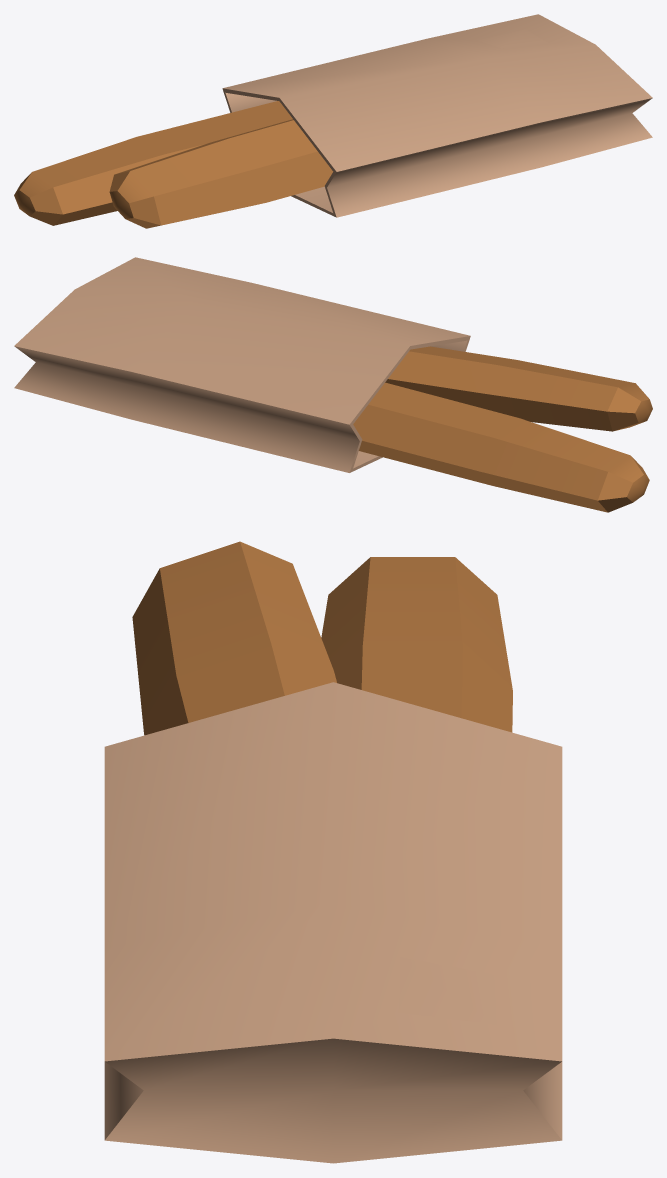
File: Baguette_Bag.fbx
3 views of the same model, one above another, from view 1: azimuth 30°, elevation 25°; view 2: azimuth 150°, elevation 25°; view 3: azimuth 270°, elevation 25° (orthographic). The views are drawn at different scales.
Parts seen in each view (by area): view 1: Baguette_Bag; view 2: Baguette_Bag; view 3: Baguette_Bag.
Part boxes in pixels (<box>): Baguette_Bag: <box>14,14,652,228</box>; Baguette_Bag: <box>14,257,652,512</box>; Baguette_Bag: <box>104,541,562,1163</box>.
Size of the model in its own units: 12.56 by 2.01 by 4.48.
